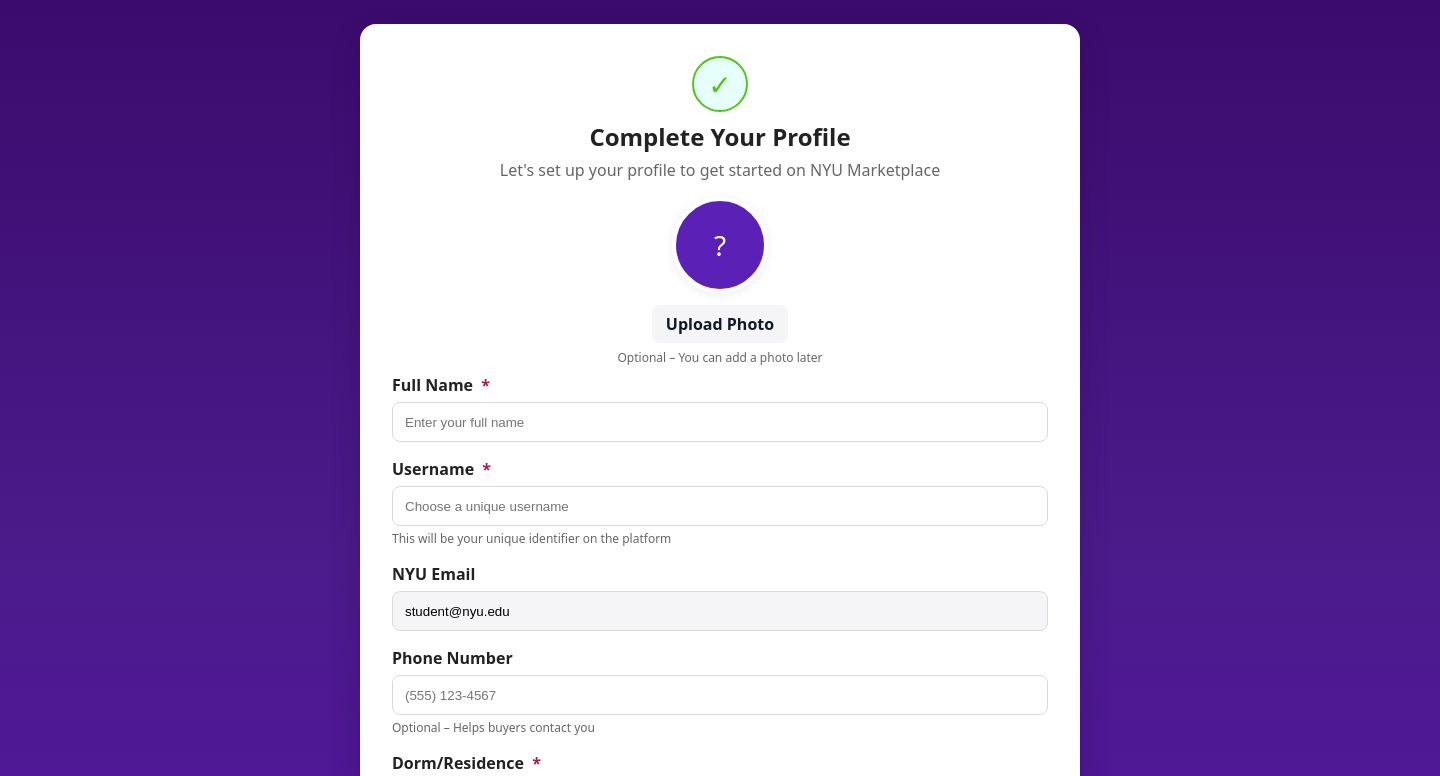
Test case: CreateProfile page › shows API validation errors returned by backend
Type "Alex Morgan" into the field labelled "Full Name *". click: (720, 422)
box: [392,402,1048,442]
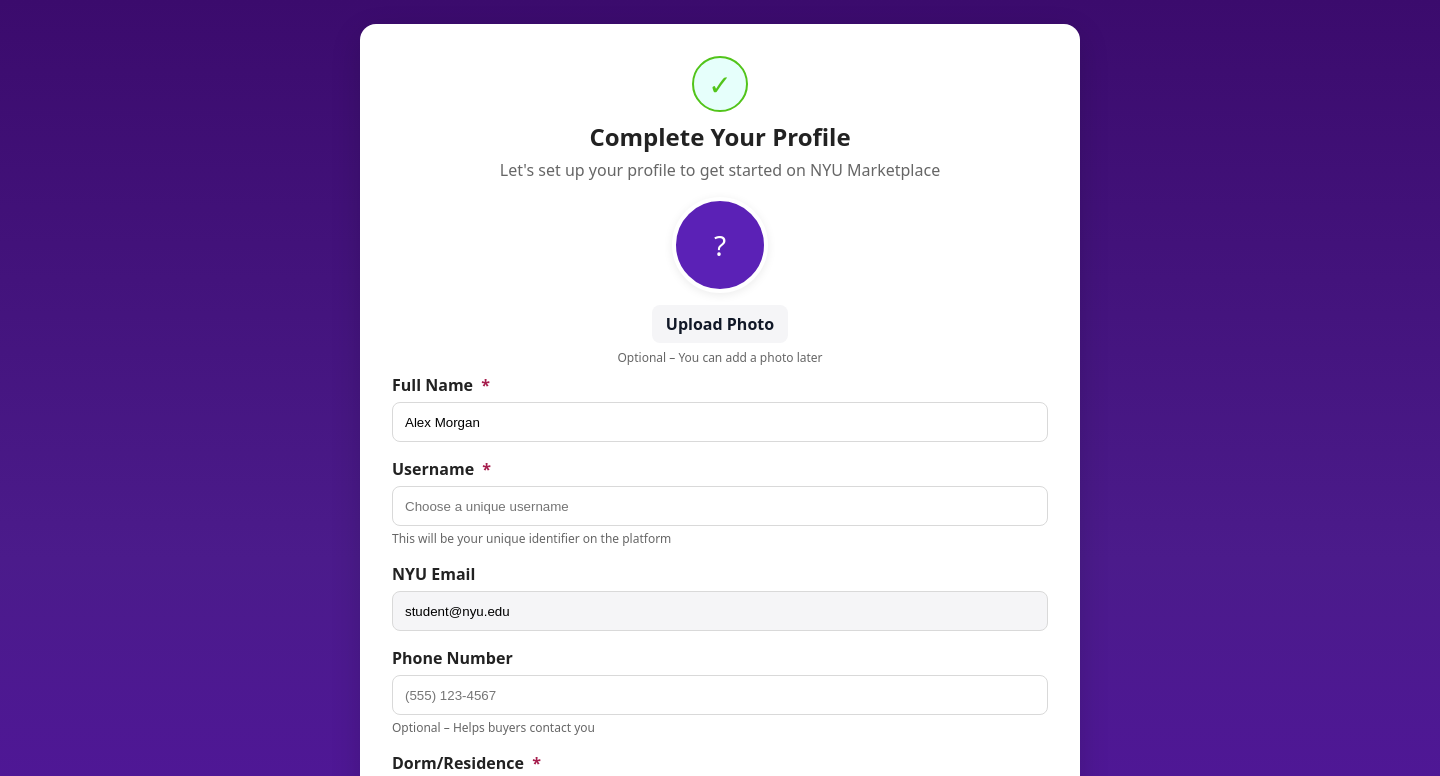
Type "alexm" into the field labelled "Username *". click: (720, 506)
box: [392,486,1048,526]
(page scrolled)
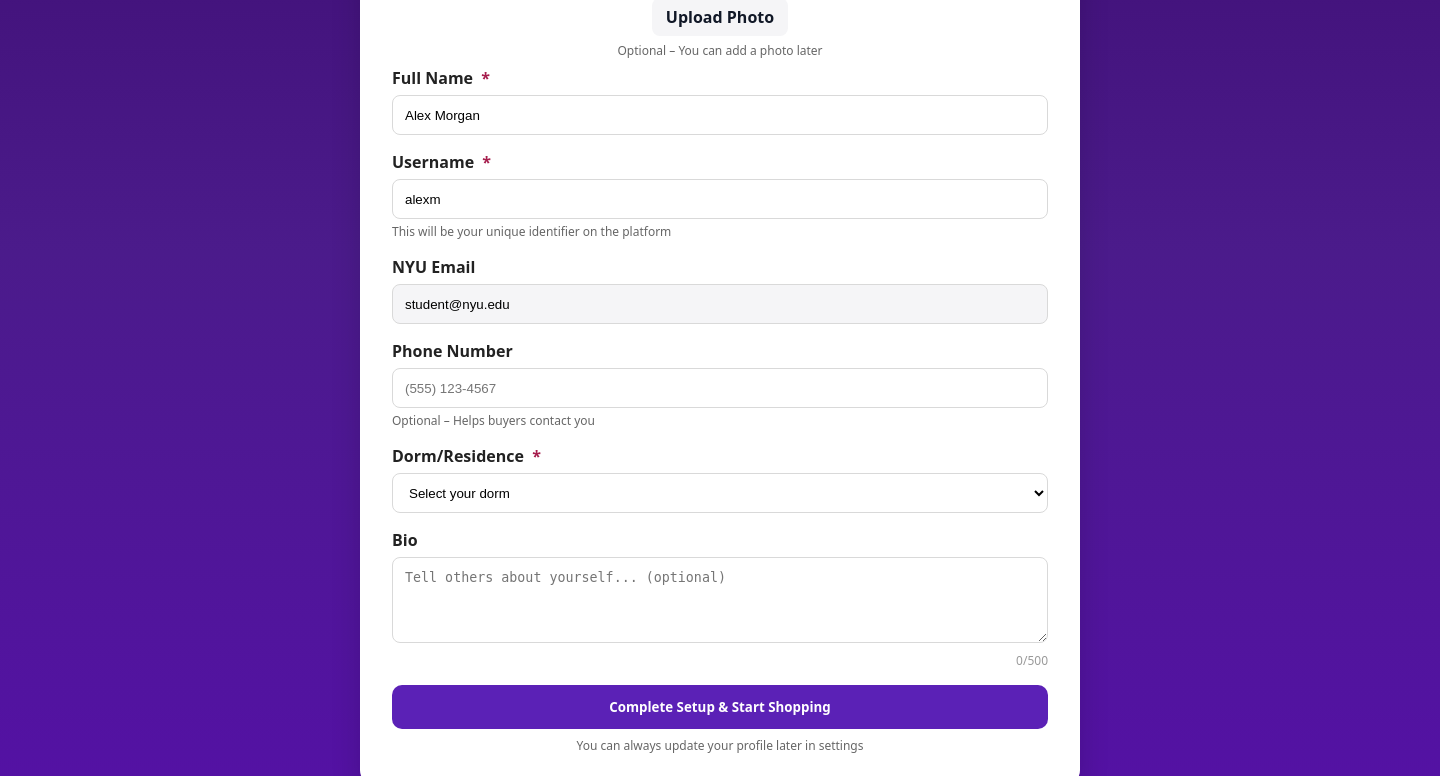
Select "Founders Hall" in the dropdown labelled "Dorm/Residence *". click: (720, 493)
box: [392,473,1048,513]
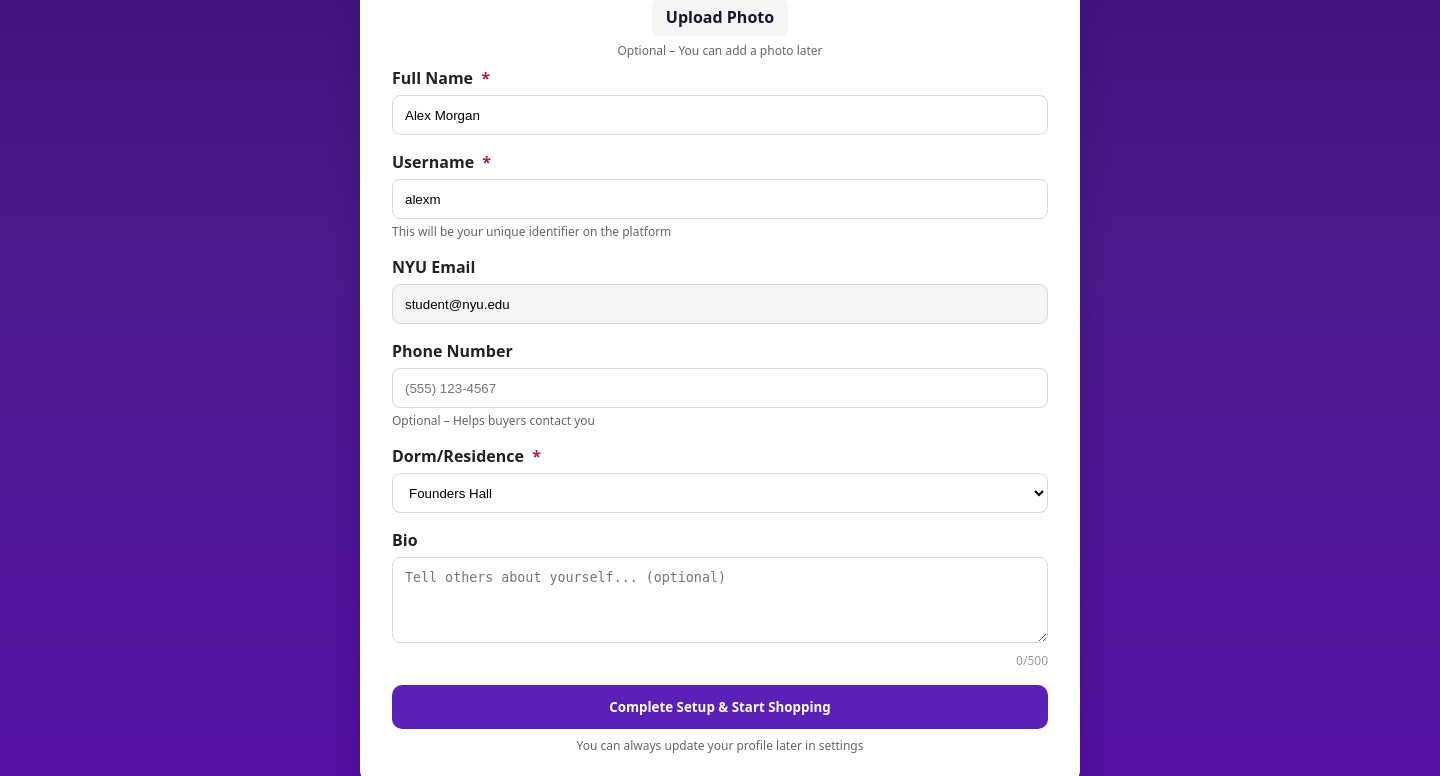
Click the button "Complete Setup & Start Shopping". click: (720, 707)
box: [392,685,1048,729]
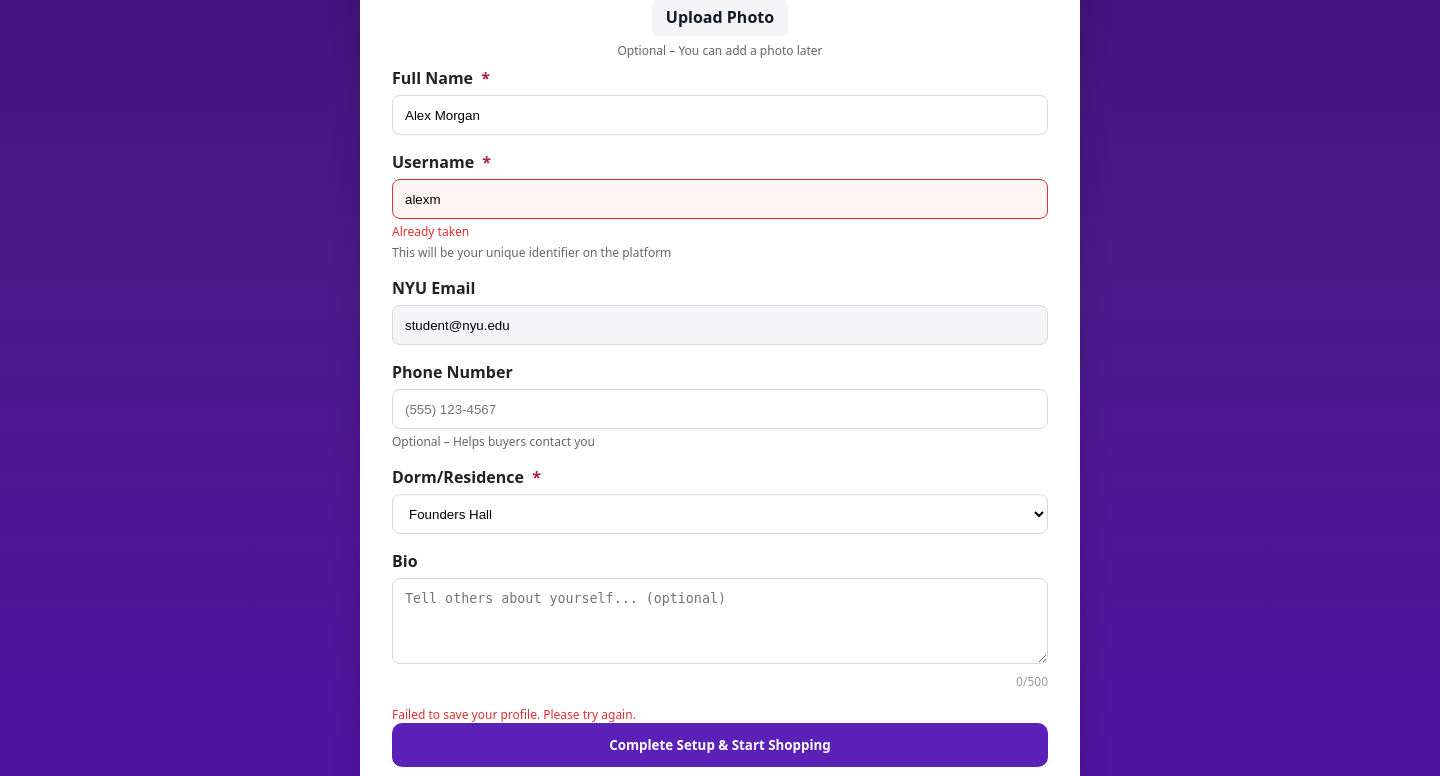
Result: the text "Already taken" is shown at [392,223,469,240]
Result: the text "Failed to save your profile. Please try again." is shown at [392,706,636,723]
